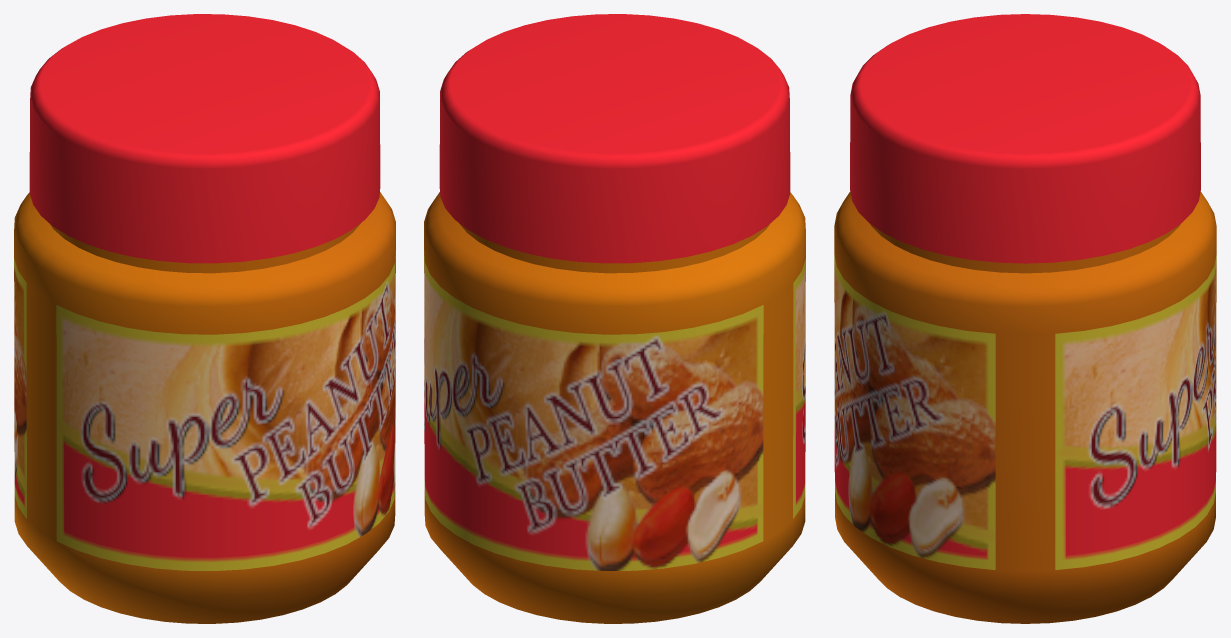
File: Peanut_butter.fbx
3 renders of one model, left to right at view 1: azimuth 30°, elevation 25°; view 2: azimuth 150°, elevation 25°; view 3: azimuth 270°, elevation 25°, orthographic.
Parts seen in each view (by area): view 1: Peanut_butter; view 2: Peanut_butter; view 3: Peanut_butter.
Boxes of the visible parts, x1,y1,x2,y2 form: Peanut_butter: (14,14,395,623); Peanut_butter: (424,14,805,623); Peanut_butter: (834,14,1216,623).
Bounding box in the file's own units: 10.35 × 14.17 × 10.35.
